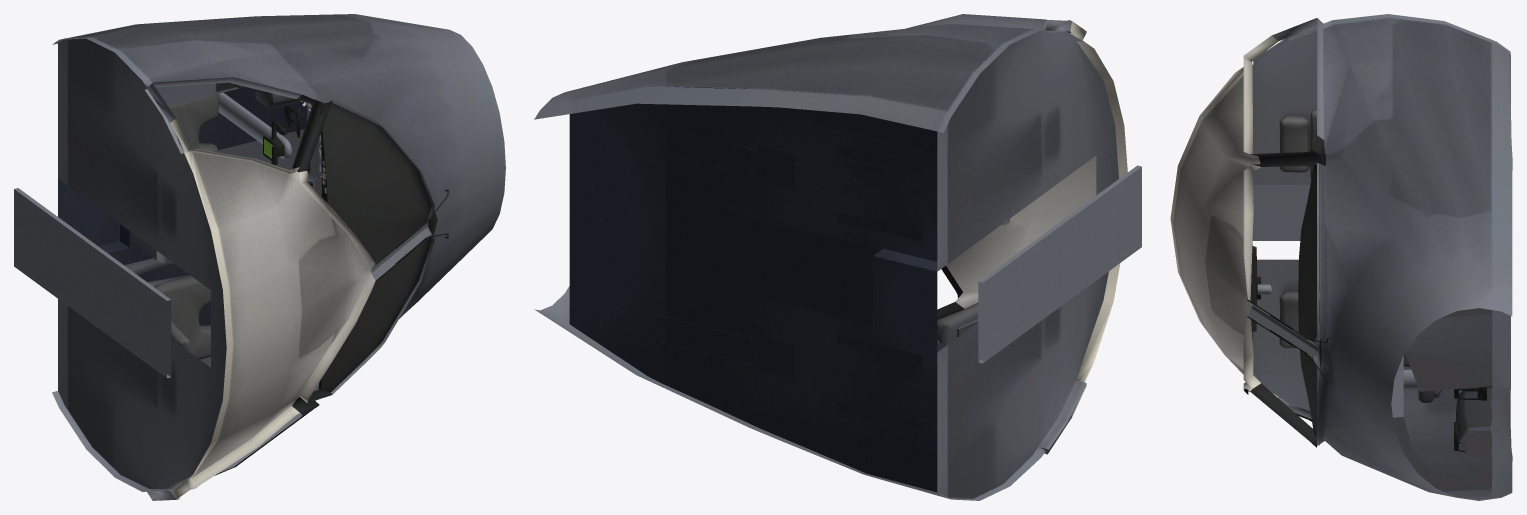
File: crj700-cockpit.glb
3 renders of one model, left to right at view 1: azimuth 30°, elevation 25°; view 2: azimuth 150°, elevation 25°; view 3: azimuth 270°, elevation 25°, orthographic. The views are drawn at different scales.
Size of the model in its own units: 2.8 by 2.64 by 1.99.
Materials: 63 (46 with a texture image).
